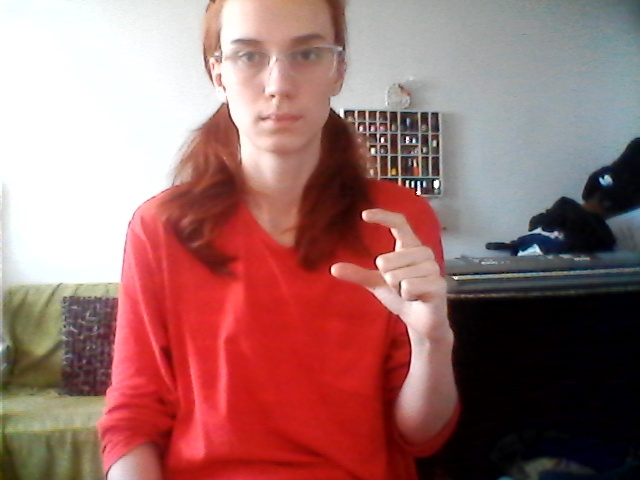c: (326, 204, 460, 342)
